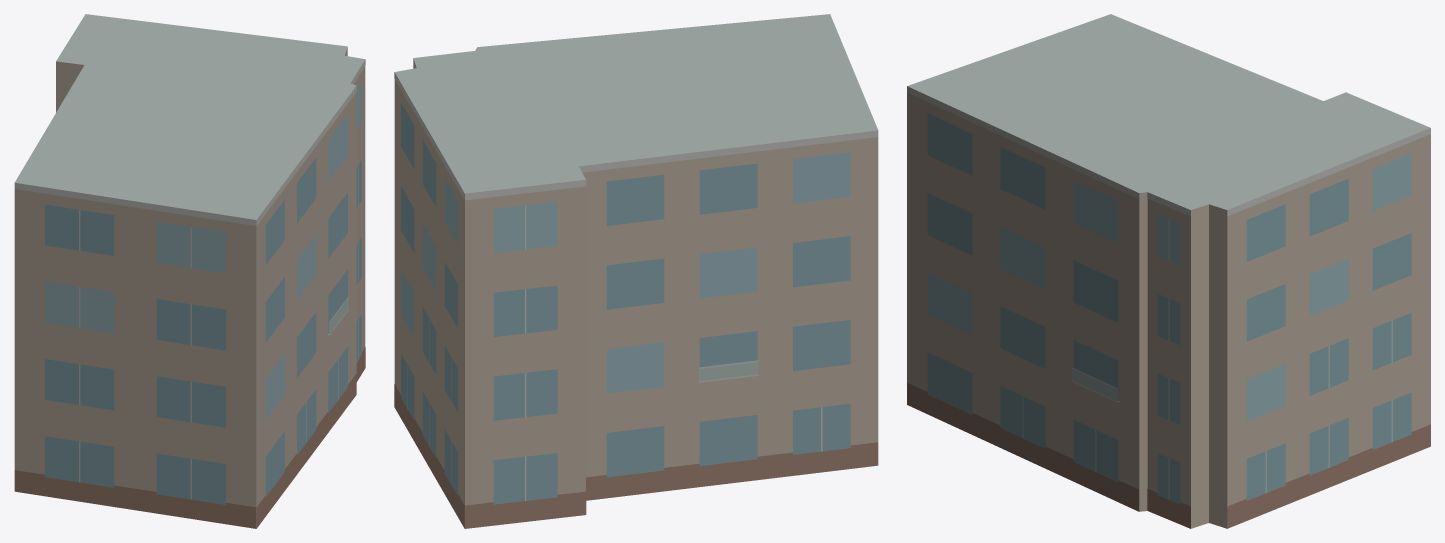
The model's file is survey-upis-32813534.glb.
The picture shows the model from 3 angles, left to right: view 1: azimuth 30°, elevation 25°; view 2: azimuth 150°, elevation 25°; view 3: azimuth 270°, elevation 25°; orthographic projection. The views are drawn at different scales.
Parts seen in each view (by area): view 1: survey-upis-32813534.tmp; view 2: survey-upis-32813534.tmp; view 3: survey-upis-32813534.tmp.
Part boxes in pixels (x1,y1,x2,y2): survey-upis-32813534.tmp: (14,14,365,528); survey-upis-32813534.tmp: (394,14,878,528); survey-upis-32813534.tmp: (907,14,1430,528).
Size of the model in its own units: 16.25 by 12.3 by 18.33.
